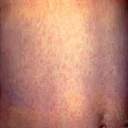Measles: (7, 13, 128, 110)
